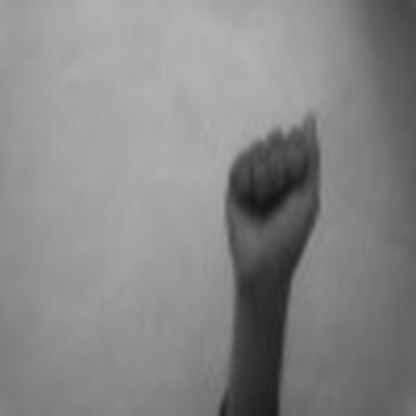a: (210, 105, 341, 259)
